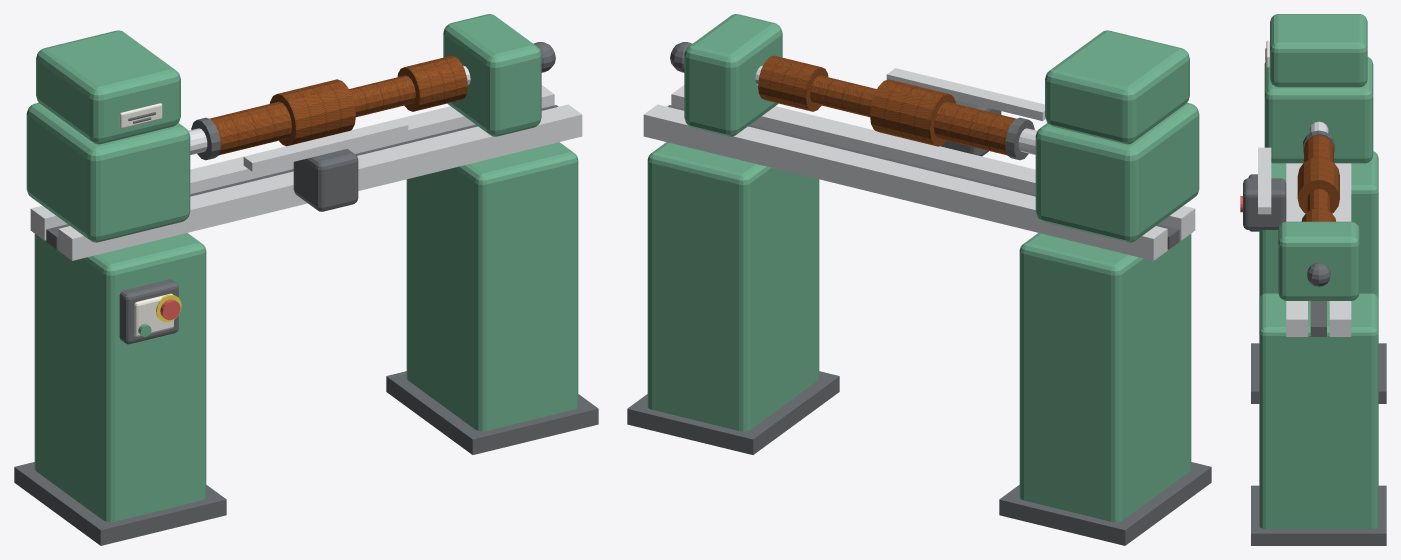
Rendered from woodworking-workshop-and-joinery-woodworking-workshop--6ea6f387__34247.glb.
The picture shows the model from 3 angles, left to right: view 1: azimuth 30°, elevation 25°; view 2: azimuth 150°, elevation 25°; view 3: azimuth 270°, elevation 25°; orthographic projection. The views are drawn at different scales.
Visible parts, largest first — view 1: woodworking-workshop-and-joinery-wood-lathe, spindle-spin/timber, spindle-spin/charcoal; view 2: woodworking-workshop-and-joinery-wood-lathe, spindle-spin/timber, spindle-spin/charcoal; view 3: woodworking-workshop-and-joinery-wood-lathe, spindle-spin/timber, spindle-spin/charcoal.
Part boxes in pixels (x1,y1,x2,y2): woodworking-workshop-and-joinery-wood-lathe: (14, 14, 598, 545); spindle-spin/timber: (210, 55, 467, 155); spindle-spin/charcoal: (191, 117, 220, 160); woodworking-workshop-and-joinery-wood-lathe: (627, 14, 1211, 545); spindle-spin/timber: (758, 55, 1015, 155); spindle-spin/charcoal: (1005, 117, 1034, 160); woodworking-workshop-and-joinery-wood-lathe: (1240, 14, 1386, 545); spindle-spin/timber: (1297, 135, 1339, 221); spindle-spin/charcoal: (1303, 130, 1334, 152).
Size of the model in its own units: 1.7 by 1.41 by 0.54.
Materials: 7 (1 with a texture image).
